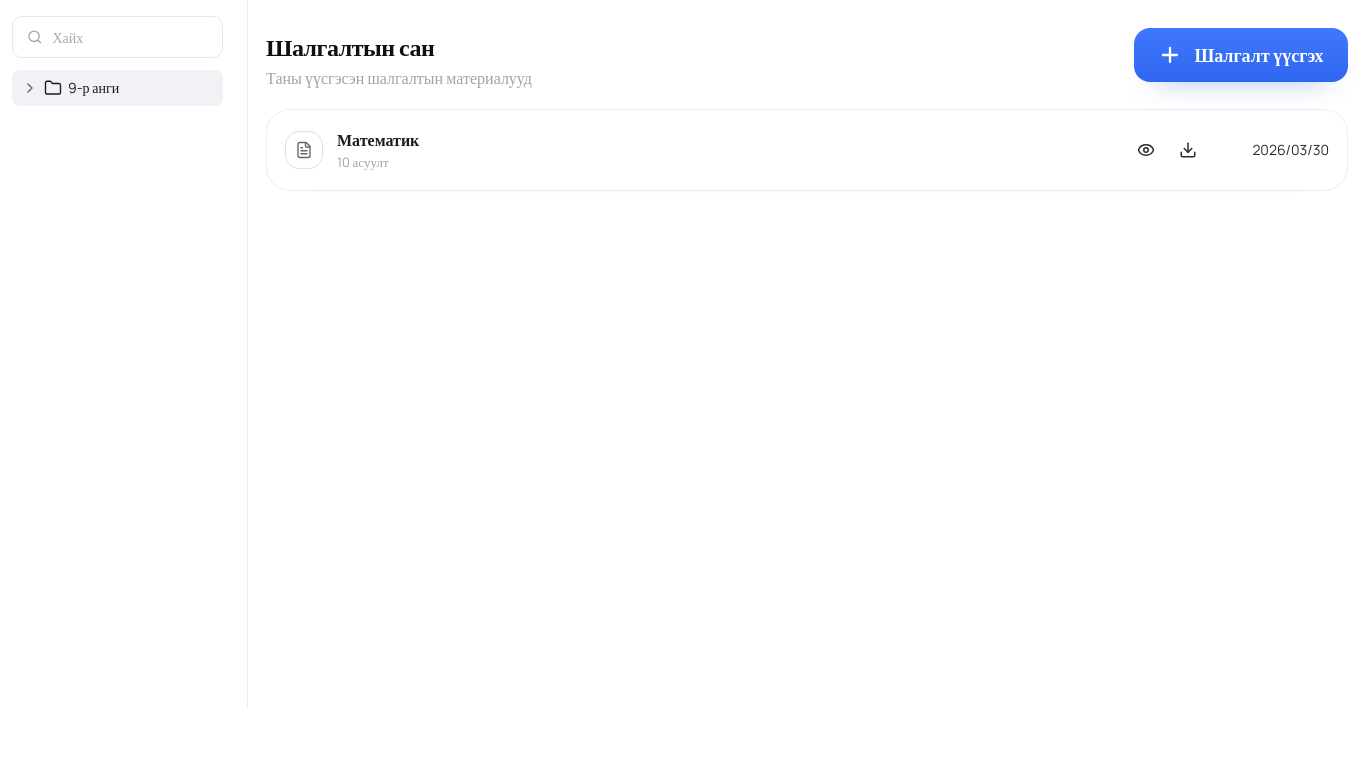
Test: TeacherPageContent › opens the create exam modal from the exam library tab
Step 1. Click the button "Шалгалт үүсгэх" → {"x": 1241, "y": 55}, box [1134, 28, 1348, 82]
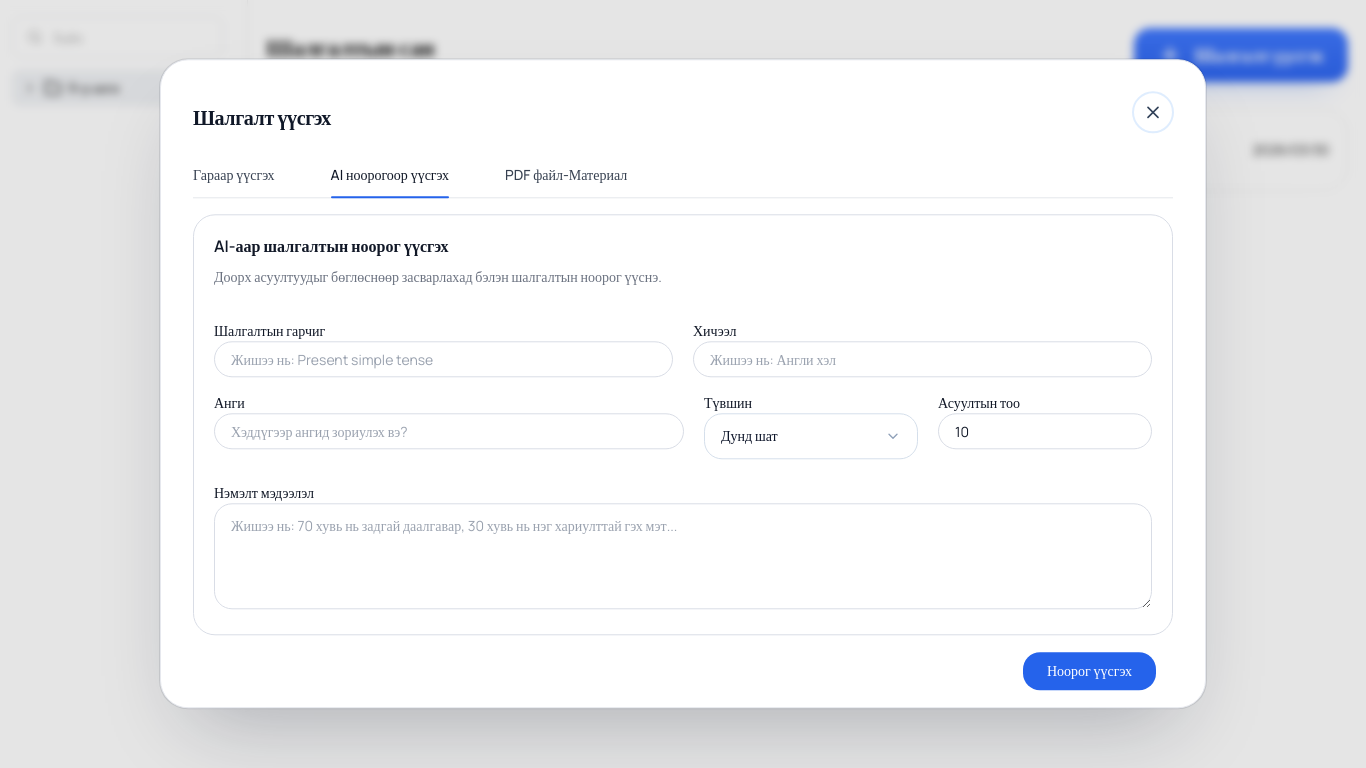
Expected: the heading "Шалгалт үүсгэх" is shown, [193, 92, 331, 133]
Expected: the button named "Close create exam modal" is shown, [1133, 92, 1173, 132]
